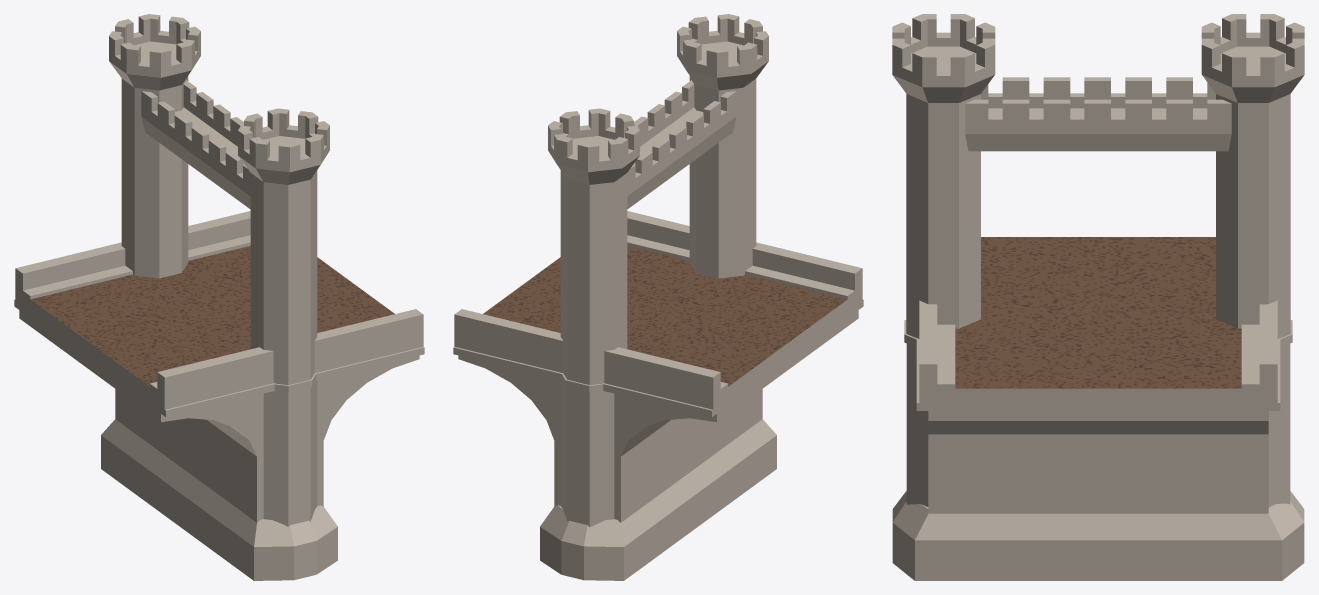
Rendered from SPW_Medieval_Bridge_02.glb.
3 renders of one model, left to right at view 1: azimuth 30°, elevation 25°; view 2: azimuth 150°, elevation 25°; view 3: azimuth 270°, elevation 25°, orthographic. The views are drawn at different scales.
Parts seen in each view (by area): view 1: SPW_Medieval_Bridge_02; view 2: SPW_Medieval_Bridge_02; view 3: SPW_Medieval_Bridge_02.
Part boxes in pixels (left/top/right/bottom): SPW_Medieval_Bridge_02: left=14, top=14, right=424, bottom=580; SPW_Medieval_Bridge_02: left=453, top=14, right=863, bottom=580; SPW_Medieval_Bridge_02: left=892, top=14, right=1304, bottom=580.
Size of the model in its own units: 5 by 8.02 by 5.76.
Materials: 1 (1 with a texture image).
